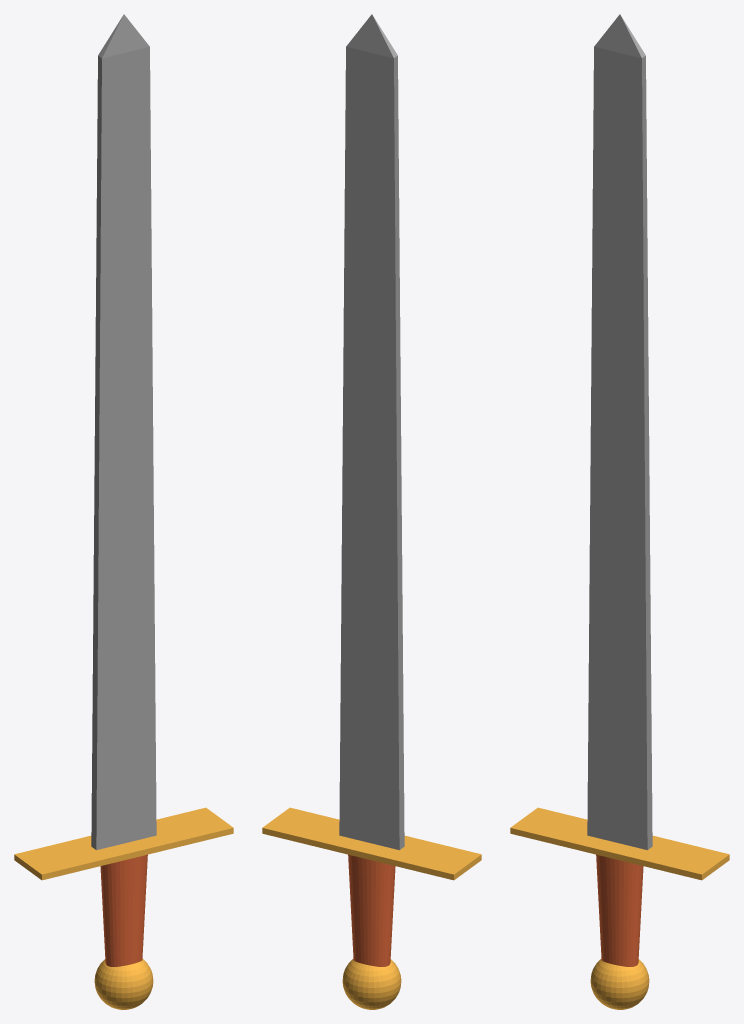
Rendered from longsword.glb.
The picture shows the model from 3 angles, left to right: view 1: azimuth 30°, elevation 25°; view 2: azimuth 150°, elevation 25°; view 3: azimuth 330°, elevation 25°; orthographic projection.
Visible parts, largest first — view 1: Cube, Cube.001, Cylinder, Sphere; view 2: Cube, Cube.001, Cylinder, Sphere; view 3: Cube, Cube.001, Cylinder, Sphere.
Boxes of the visible parts, x1=… form: Cube: x1=91, y1=14, x2=156, y2=850; Cube.001: x1=14, y1=807, x2=233, y2=880; Cylinder: x1=100, y1=854, x2=147, y2=966; Sphere: x1=94, y1=959, x2=153, y2=1009; Cube: x1=339, y1=14, x2=404, y2=850; Cube.001: x1=262, y1=807, x2=481, y2=880; Cylinder: x1=348, y1=854, x2=395, y2=966; Sphere: x1=342, y1=959, x2=401, y2=1009; Cube: x1=587, y1=14, x2=652, y2=850; Cube.001: x1=510, y1=807, x2=729, y2=880; Cylinder: x1=596, y1=854, x2=643, y2=966; Sphere: x1=590, y1=959, x2=649, y2=1009.
Bounding box in the file's own units: 3.44 × 17.02 × 0.9.
